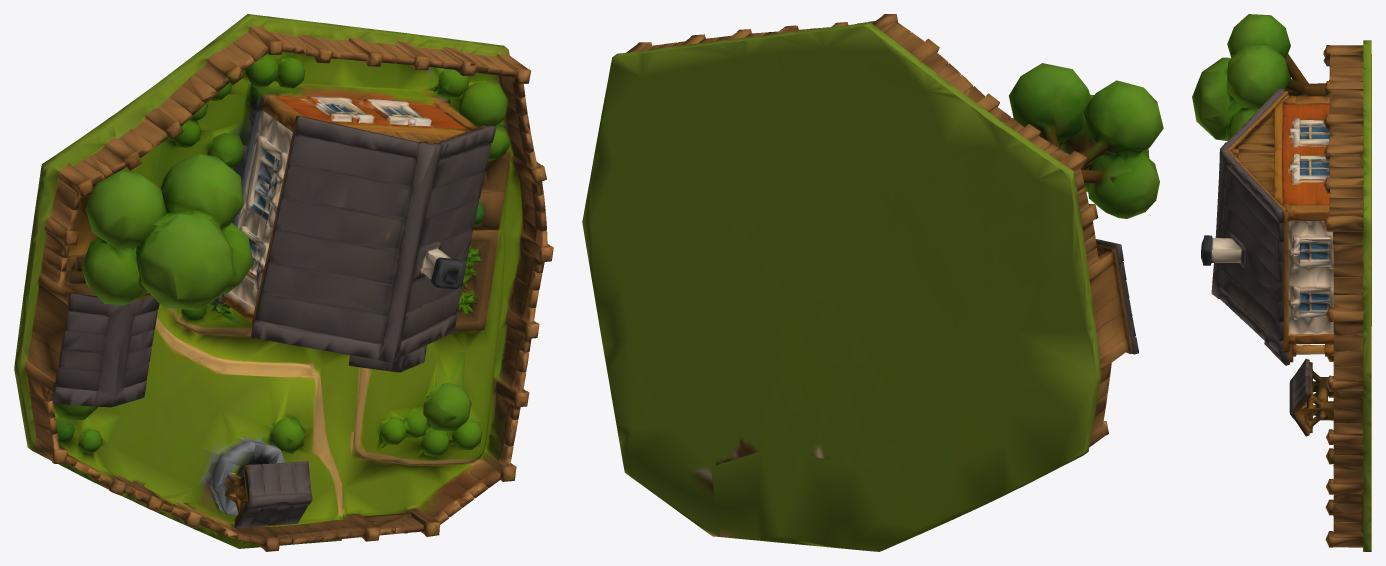
File: dom_usadba.glb
3 renders of one model, left to right at view 1: azimuth 30°, elevation 25°; view 2: azimuth 150°, elevation 25°; view 3: azimuth 270°, elevation 25°, orthographic. The views are drawn at different scales.
Parts seen in each view (by area): view 1: dom_usadba; view 2: dom_usadba; view 3: dom_usadba.
Boxes of the visible parts, x1,y1,x2,y2 form: dom_usadba: (14, 14, 553, 551); dom_usadba: (582, 14, 1163, 551); dom_usadba: (1192, 14, 1371, 551).
Size of the model in its own units: 16 by 16.22 by 5.88.
Materials: 1 (1 with a texture image).
